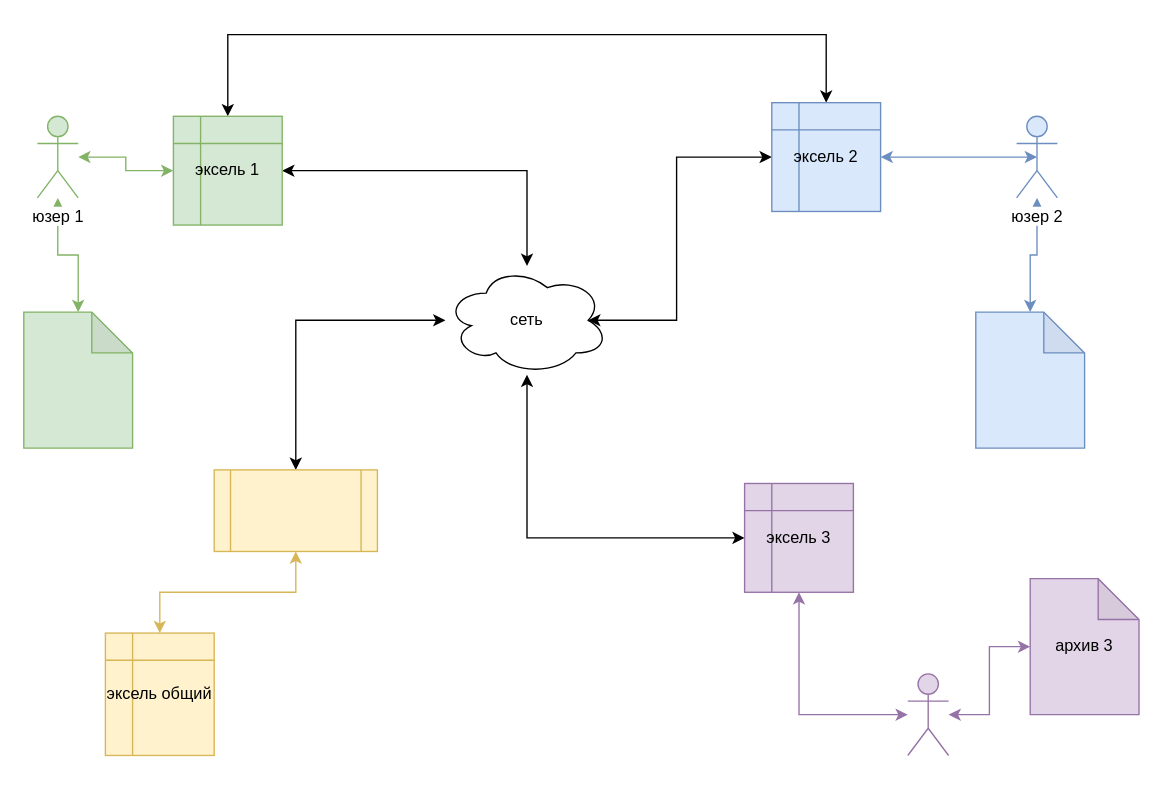
Image size: 1163x808. Some labels were removed from this diagram. The shapes that lost their labels are listed below. From the top down, each one's centre as x and y in pixels, then its label:
point (77, 379): архив 1
point (1029, 379): архив 2
point (295, 510): сетевой сервер
point (927, 714): юзер 3
